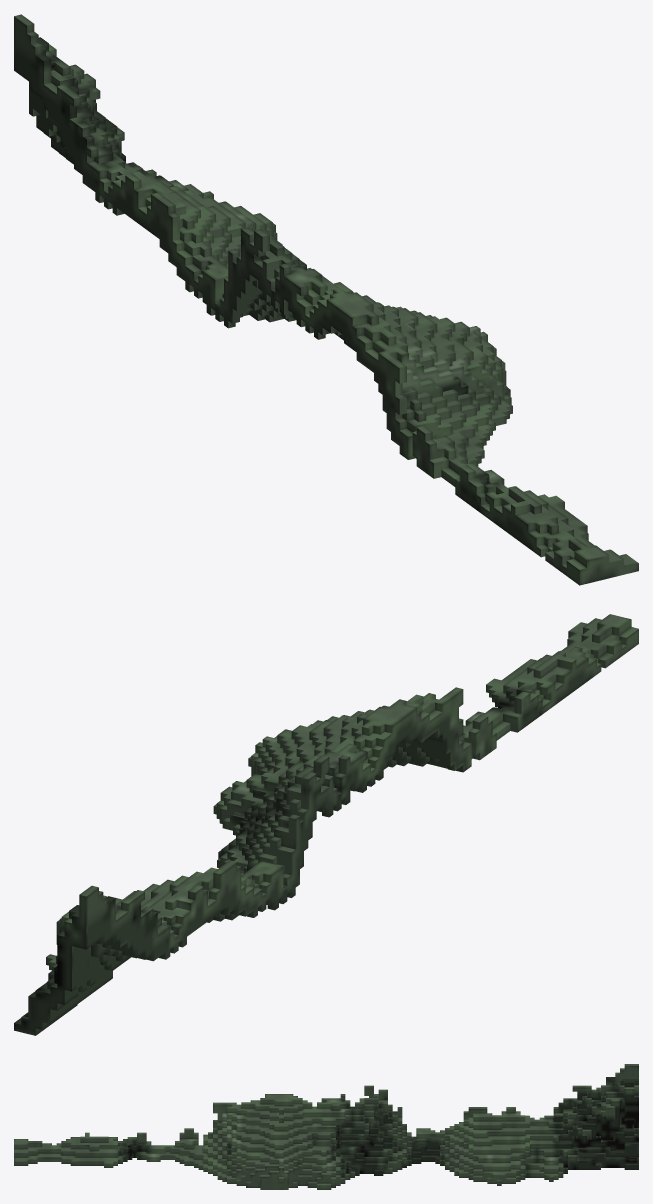
The model's file is treeline01-11-12r.fbx.
3 views of the same model, one above another, from view 1: azimuth 30°, elevation 25°; view 2: azimuth 150°, elevation 25°; view 3: azimuth 270°, elevation 25° (orthographic). The views are drawn at different scales.
Visible parts, largest first — view 1: treeline01-11-12r; view 2: treeline01-11-12r; view 3: treeline01-11-12r.
Boxes of the visible parts, x1,y1,x2,y2 form: treeline01-11-12r: [14, 14, 638, 585]; treeline01-11-12r: [14, 614, 638, 1035]; treeline01-11-12r: [14, 1064, 638, 1189].
Bounding box in the file's own units: 21 × 20 × 132.
